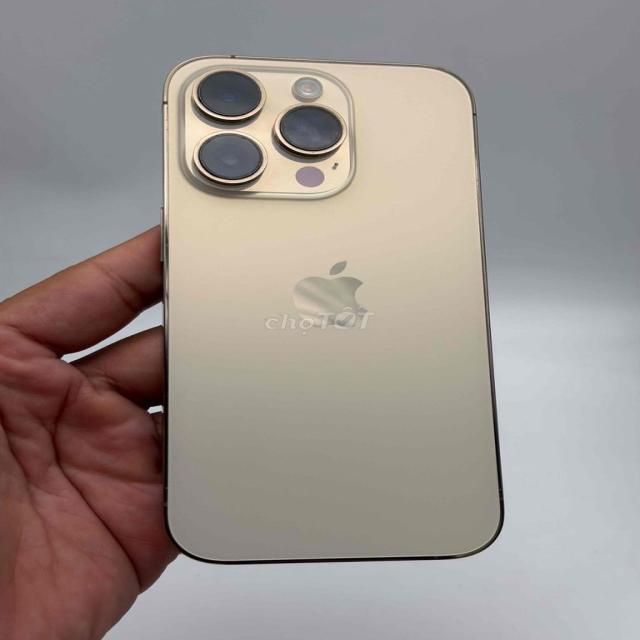gen_14: (152, 45, 509, 570)
